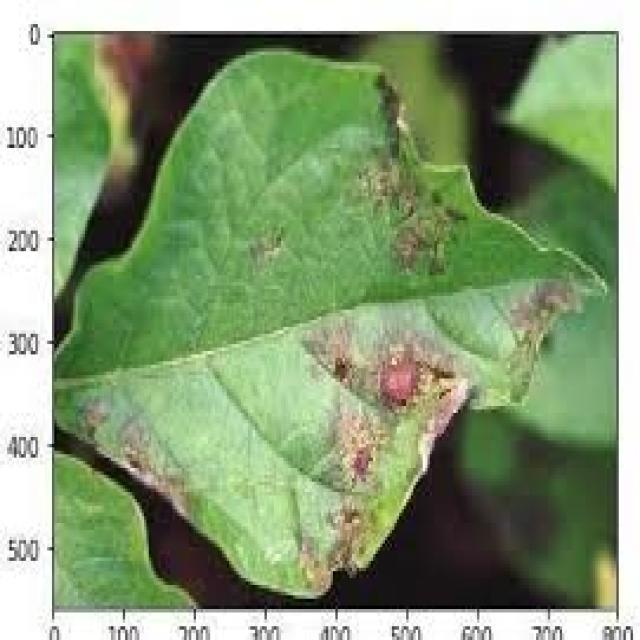leaf: (52, 45, 608, 602)
